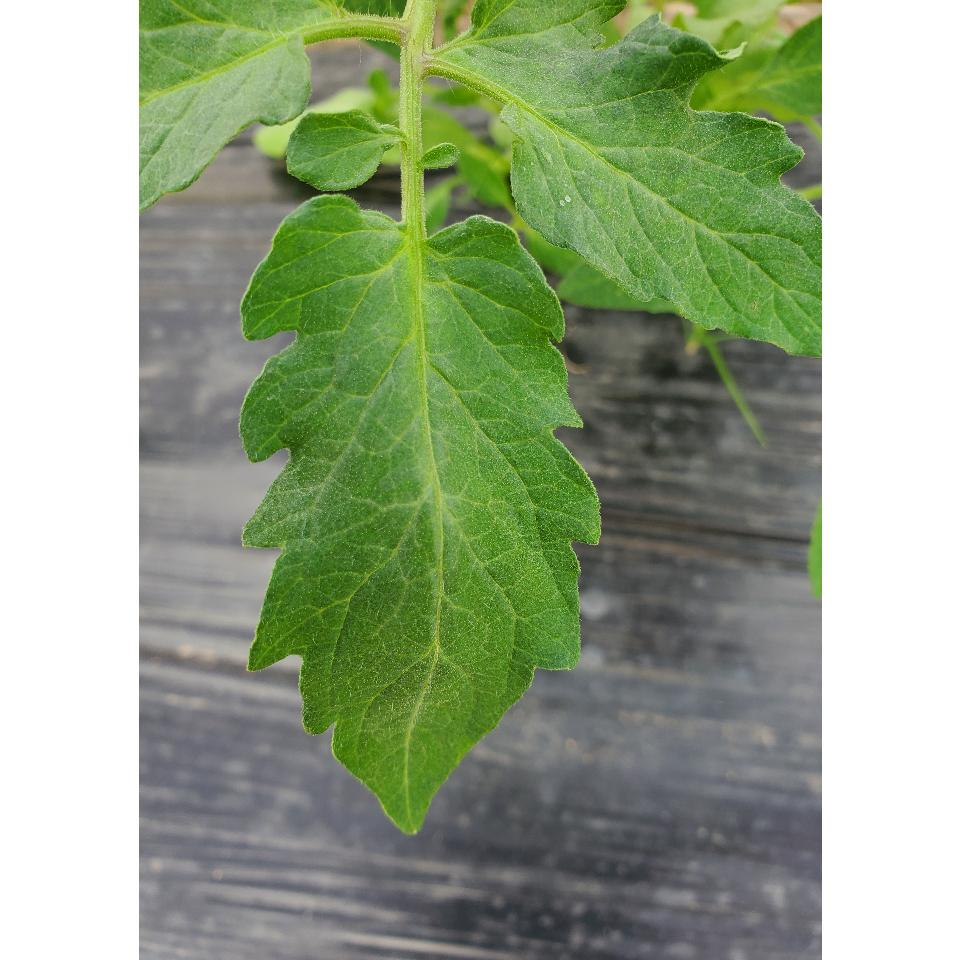tomato_leaves: (242, 200, 594, 834), (445, 31, 817, 358), (278, 110, 403, 190)
